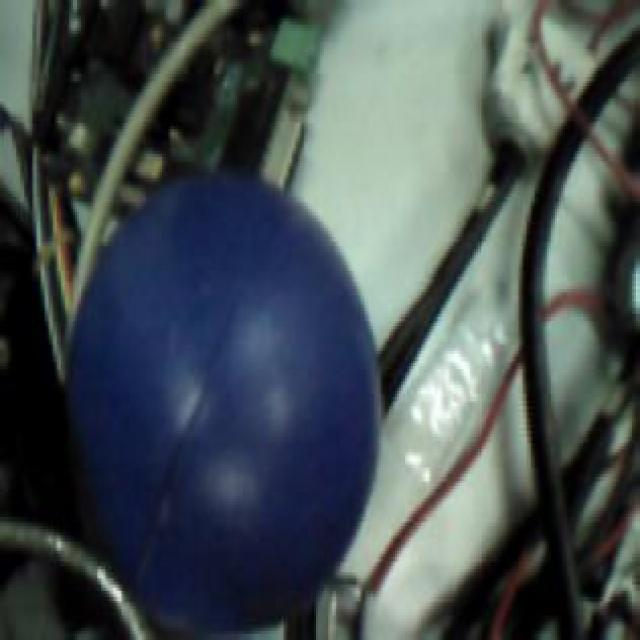BallPurple: (66, 168, 382, 640)
